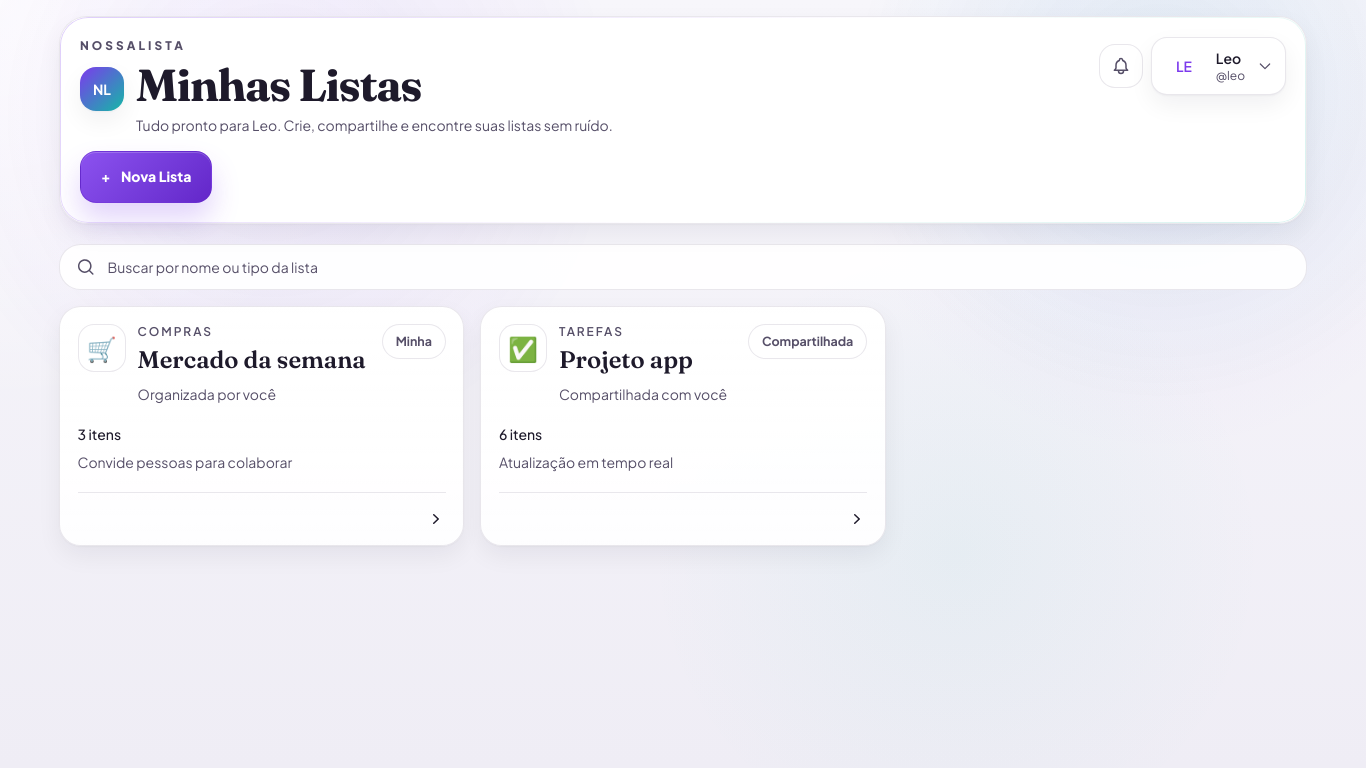
Test case: Home search › filtra listas por nome
Expected: the heading "Mercado da semana" is shown, 138,344 -> 366,376
Expected: the heading "Projeto app" is shown, 559,345 -> 693,374
Type "mercado" into the search field named "Buscar listas" at (699, 266), box 108,256 -> 1290,276
Wait 260 ms
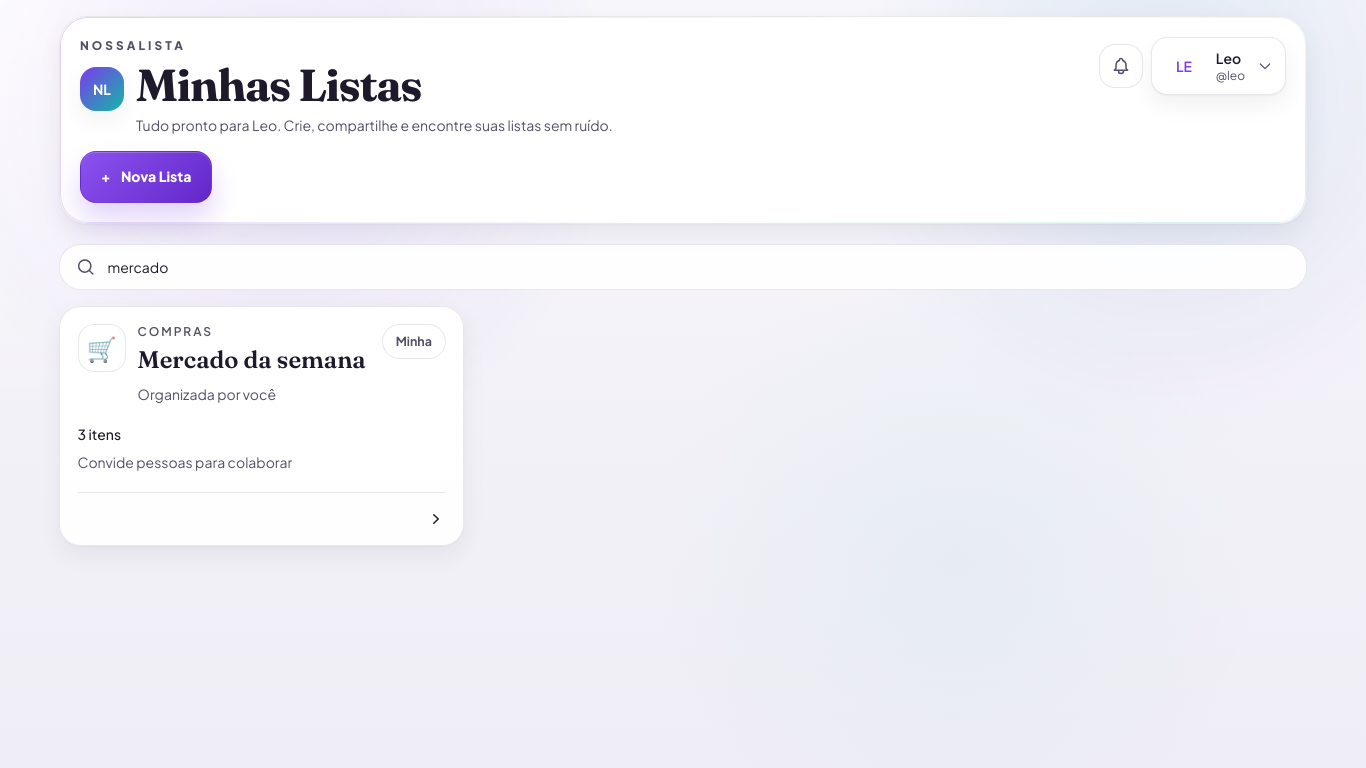
Expected: the heading "Mercado da semana" is shown, 138,344 -> 366,376
Result: the link "Projeto app" is gone
